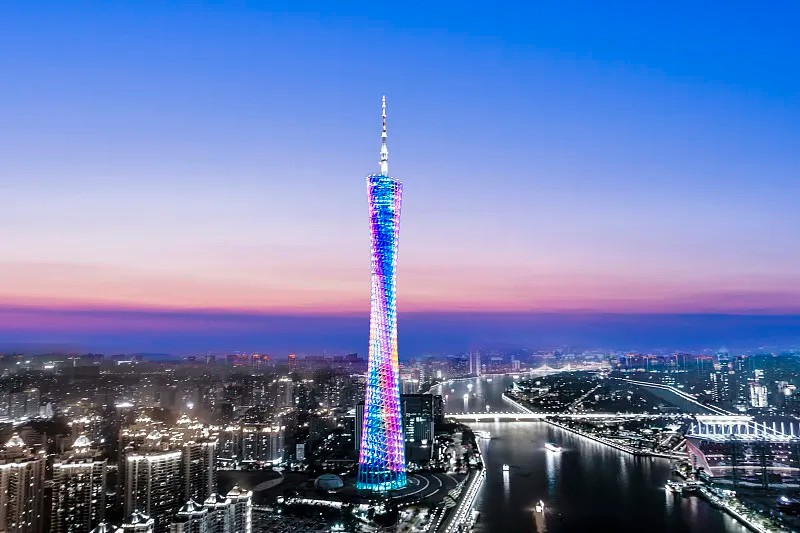Canton: (356, 95, 409, 491)
